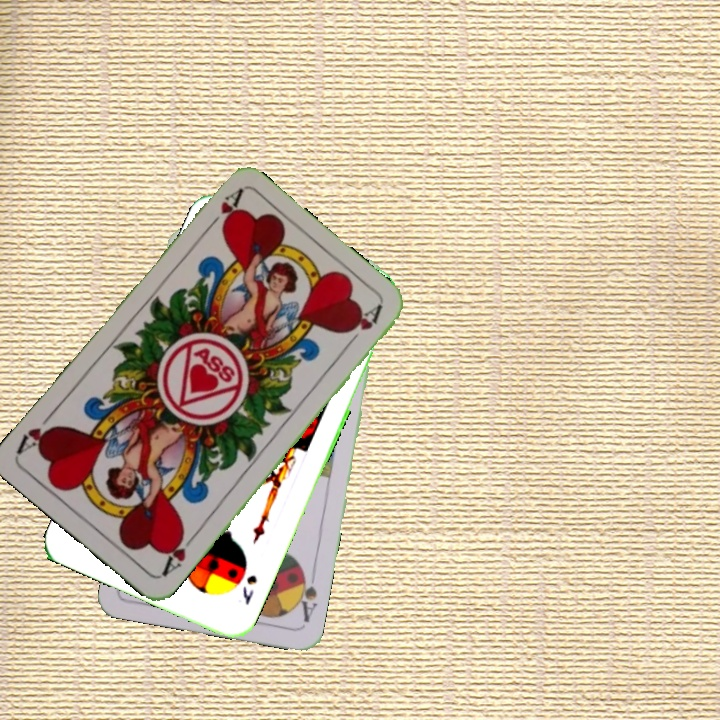HA: (200, 186, 245, 235), (157, 528, 200, 579)
SA: (291, 565, 320, 626)
SK: (238, 570, 260, 608)
